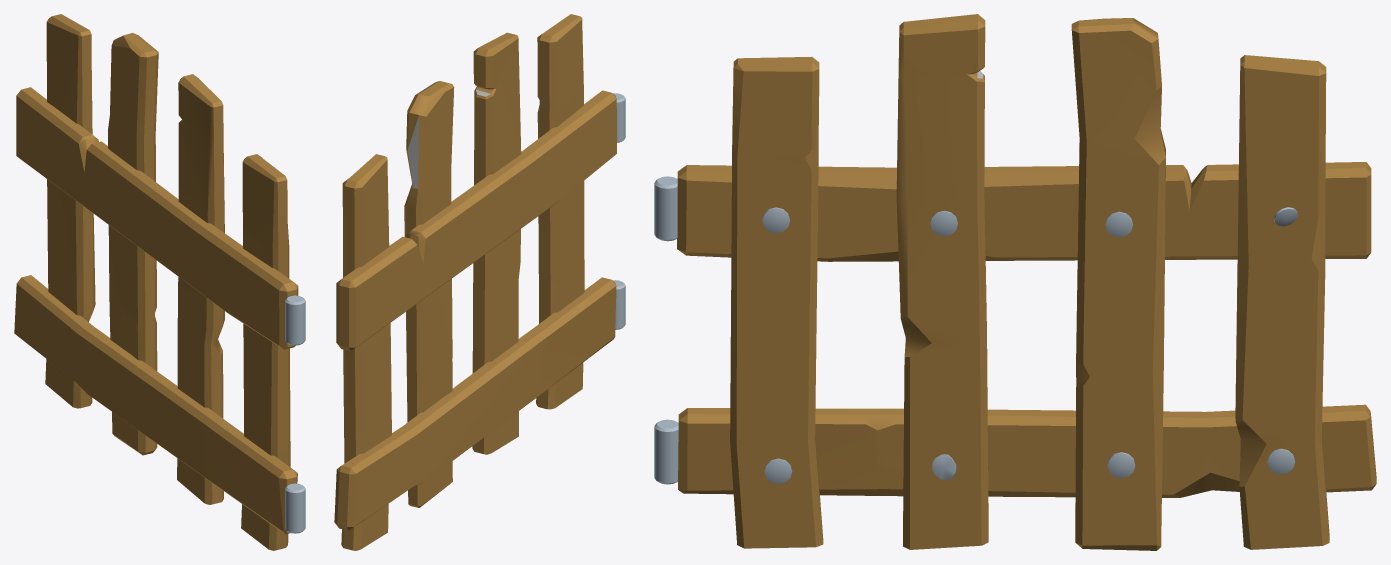
The model's file is fenceGate.glb.
The picture shows the model from 3 angles, left to right: view 1: azimuth 30°, elevation 25°; view 2: azimuth 150°, elevation 25°; view 3: azimuth 270°, elevation 25°; orthographic projection. The views are drawn at different scales.
Visible parts, largest first — view 1: fence_gate; view 2: fence_gate; view 3: fence_gate.
Part boxes in pixels (x1,y1,x2,y2): fence_gate: (14,14,305,550); fence_gate: (334,14,625,550); fence_gate: (654,14,1376,550).
Bounding box in the file's own units: 0.4748 × 4.42 × 5.45.
